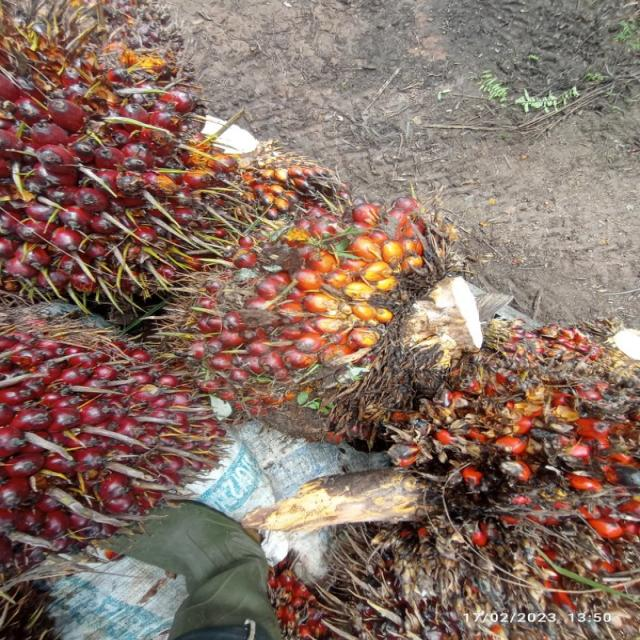fraksi 3: (142, 178, 546, 441), (0, 312, 268, 574), (1, 34, 238, 289)
fraksi 4: (410, 325, 640, 576)
